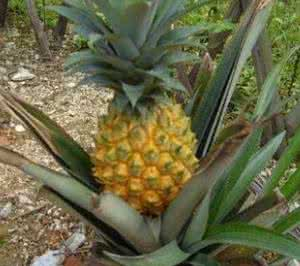pineapple: (64, 6, 201, 216)
